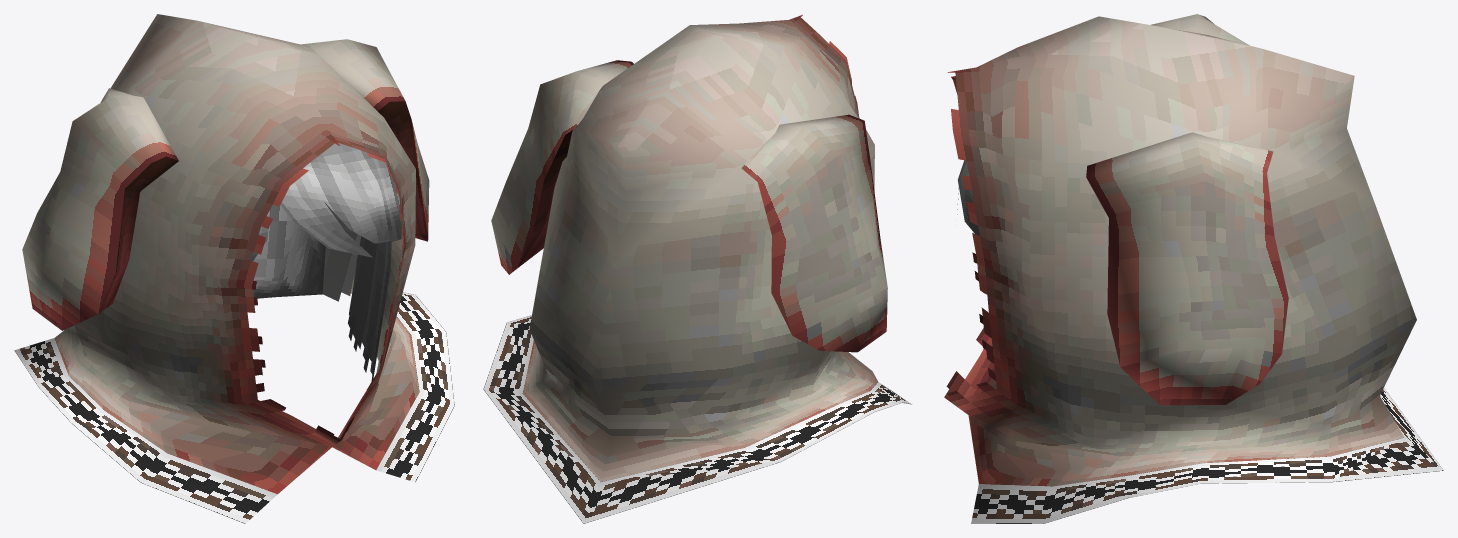
Rendered from f_hair121.glb.
The picture shows the model from 3 angles, left to right: view 1: azimuth 30°, elevation 25°; view 2: azimuth 150°, elevation 25°; view 3: azimuth 270°, elevation 25°; orthographic projection. The views are drawn at different scales.
Bounding box in the file's own units: 30.25 × 30.7 × 30.91.
Materials: 1 (1 with a texture image).
